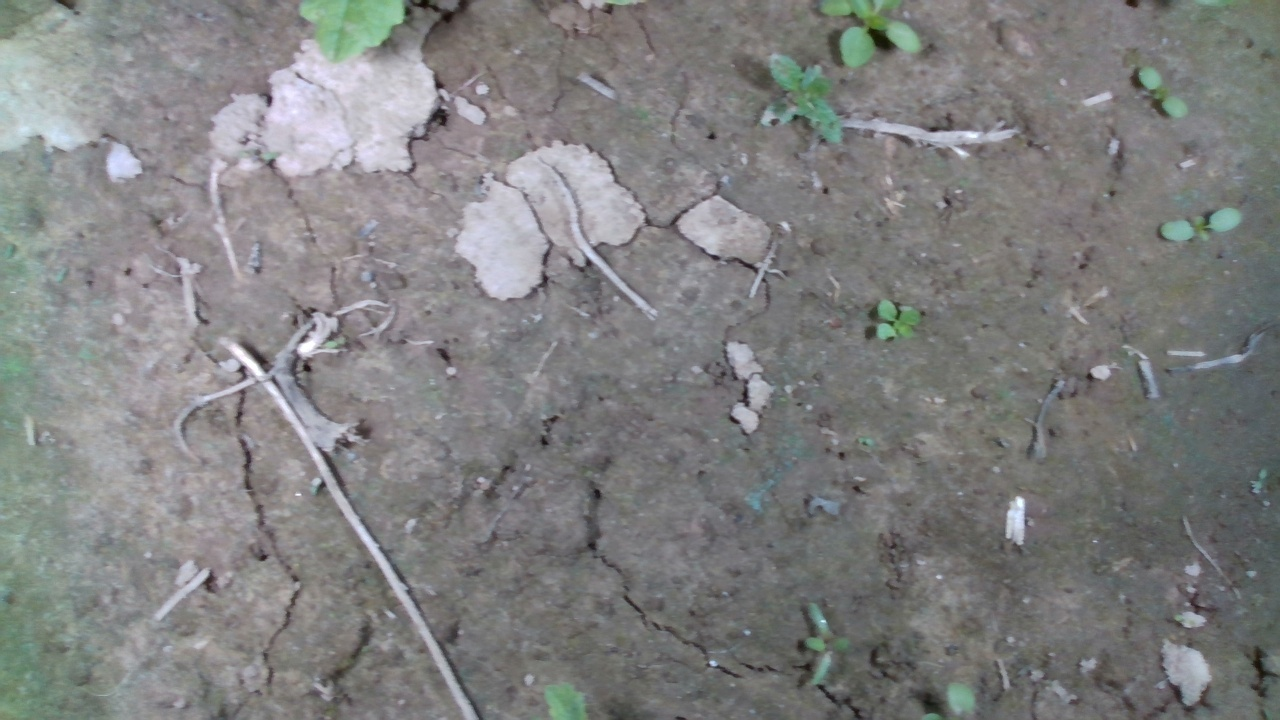weed: (759, 51, 842, 144), (801, 599, 849, 690), (1157, 206, 1243, 243), (1138, 65, 1189, 120), (875, 294, 921, 341)
